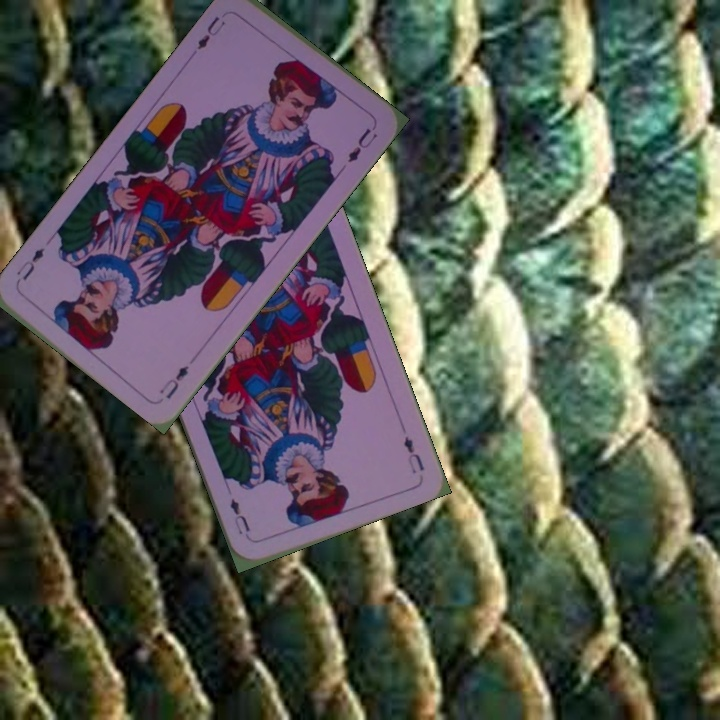EU: (155, 361, 191, 402), (193, 12, 228, 53), (399, 432, 427, 477)
